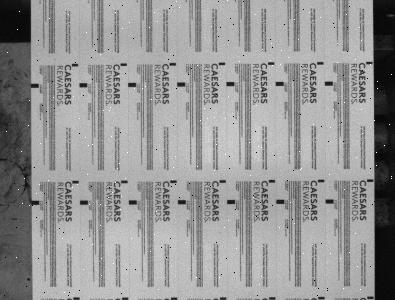qblock: (275, 81, 284, 86), (177, 82, 186, 87), (276, 199, 285, 204), (31, 83, 39, 88), (178, 199, 186, 204), (227, 199, 235, 204), (226, 82, 235, 86), (128, 200, 137, 204), (325, 199, 334, 203), (128, 83, 136, 87), (325, 81, 333, 85), (79, 83, 87, 87), (80, 200, 88, 204), (31, 200, 39, 204)
smallqblock: (219, 179, 226, 183), (170, 296, 177, 300), (170, 62, 176, 66), (269, 179, 275, 183), (72, 180, 79, 183), (366, 61, 373, 64), (170, 180, 177, 183), (367, 179, 374, 182), (73, 297, 80, 300), (269, 297, 276, 300), (220, 297, 227, 300), (318, 296, 325, 299), (367, 296, 374, 299), (120, 63, 127, 66), (317, 62, 324, 65), (72, 64, 78, 67), (268, 62, 274, 65), (219, 62, 225, 65), (121, 180, 127, 183), (318, 179, 324, 182), (122, 297, 128, 300)
